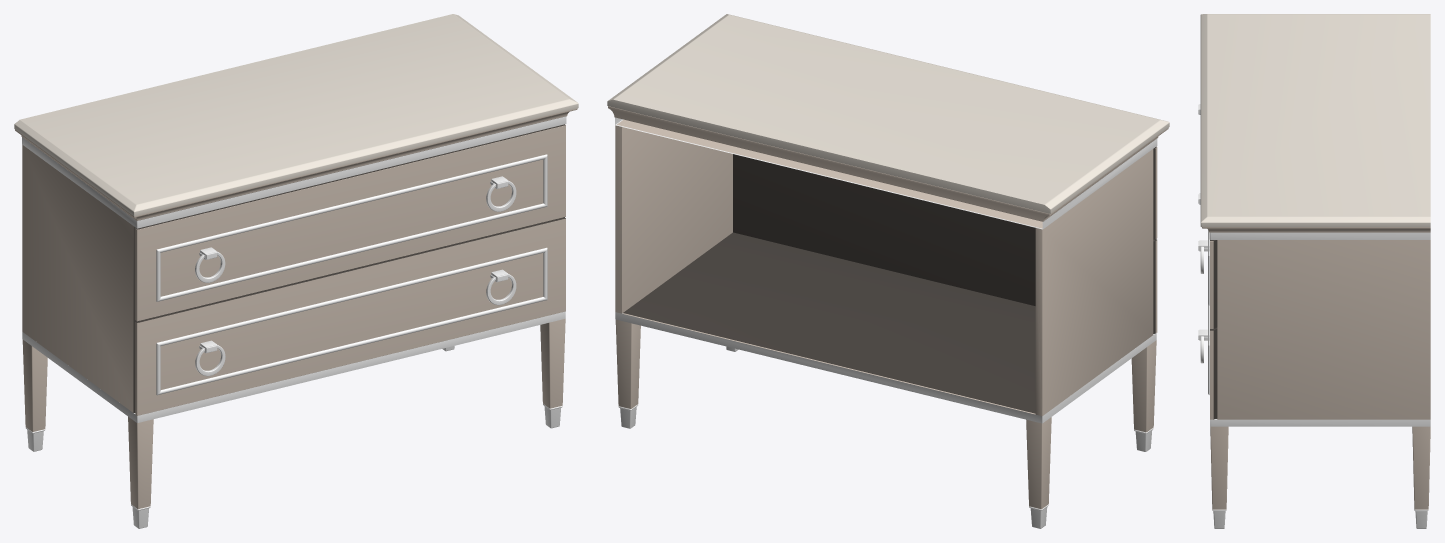
3 views of the same model, side by side, from view 1: azimuth 30°, elevation 25°; view 2: azimuth 150°, elevation 25°; view 3: azimuth 270°, elevation 25° (orthographic). The views are drawn at different scales.
Visible parts, largest first — view 1: AV04; view 2: AV04; view 3: AV04.
Part boxes in pixels (x1,y1,x2,y2): AV04: (14, 14, 578, 528); AV04: (607, 14, 1169, 528); AV04: (1198, 14, 1430, 528).
Size of the model in its own units: 1.2 by 0.847 by 0.5664.
6 materials, 1 textured.
